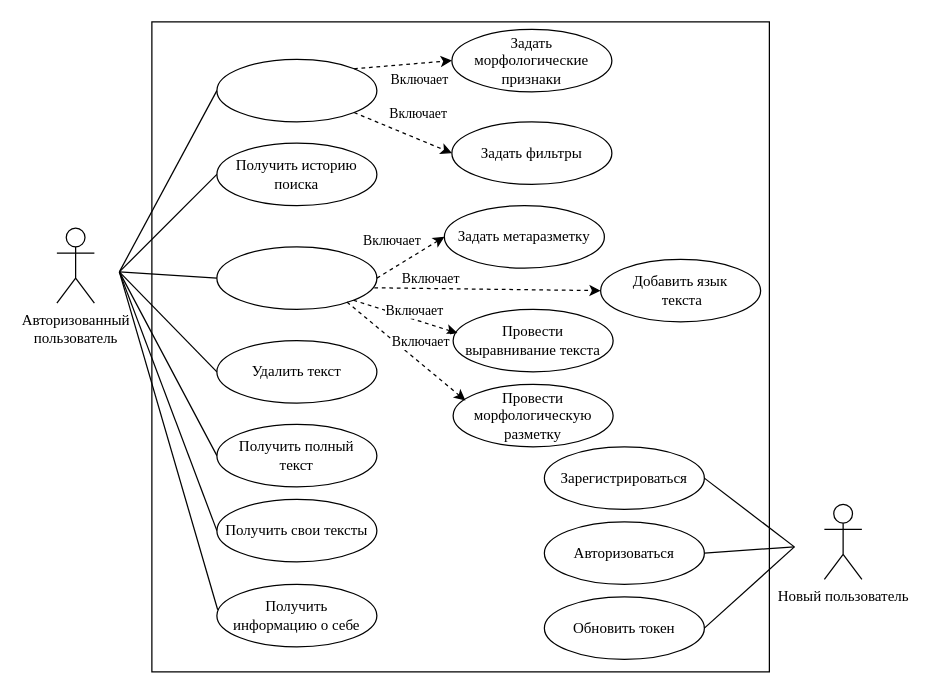
Image size: 930x694. Some labels were removed from this diagram. The centre of each missing label's shape, as x and y in pixels:
Добавить текст: point 296,277
Получить примеры употребления и перевод: point 296,90
